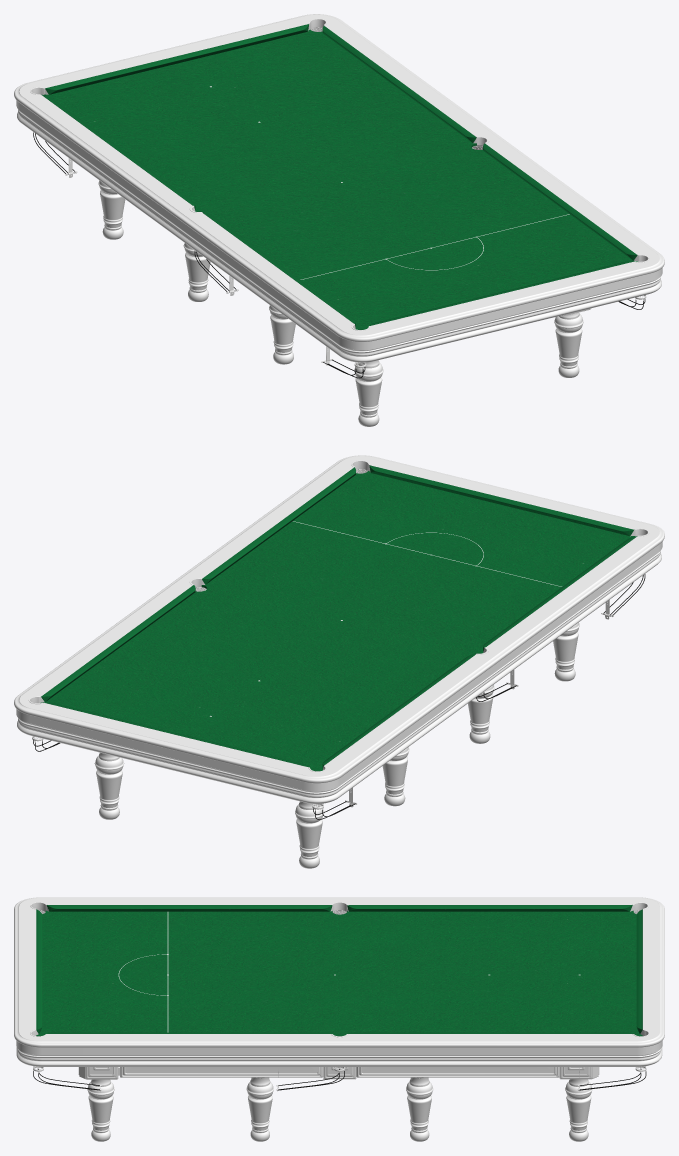
The model's file is snooker_generic.glb.
3 renders of one model, top to bottom at view 1: azimuth 30°, elevation 25°; view 2: azimuth 150°, elevation 25°; view 3: azimuth 270°, elevation 25°, orthographic. The views are drawn at different scales.
Parts seen in each view (by area): view 1: TABLE SURFACE, TABLE FRAME, Side Cushion.002, Side Cushion.001, End Cushion.001, NEW LEG-001.008, NEW LEG-001.009, NEW LEG-001, NEW LEG-001.006, NEW LEG-001.002, End Cushion.002; view 2: TABLE SURFACE, TABLE FRAME, Side Cushion.002, Side Cushion.001, End Cushion.002, NEW LEG-001.001, NEW LEG-001, NEW LEG-001.002, NEW LEG-001.008, NEW LEG-001.006, End Cushion.001; view 3: TABLE SURFACE, TABLE FRAME, Side Cushion.001, Side Cushion.002, Side Support-001, Side Support-002, NEW LEG-001.003, NEW LEG-001.007, NEW LEG-001.001, NEW LEG-001.009, End Cushion.002, End Cushion.001 (+3 smaller).
Boxes of the visible parts, <box> form: TABLE SURFACE: <box>44,29,637,329</box>; TABLE FRAME: <box>14,14,664,362</box>; Side Cushion.002: <box>41,26,476,210</box>; Side Cushion.001: <box>202,143,637,327</box>; End Cushion.001: <box>45,24,308,94</box>; NEW LEG-001.008: <box>354,360,383,426</box>; NEW LEG-001.009: <box>554,312,583,377</box>; NEW LEG-001: <box>98,180,125,239</box>; NEW LEG-001.006: <box>269,305,295,364</box>; NEW LEG-001.002: <box>183,243,210,301</box>; End Cushion.002: <box>369,261,633,325</box>; TABLE SURFACE: <box>40,471,634,771</box>; TABLE FRAME: <box>14,455,664,803</box>; Side Cushion.002: <box>41,585,475,769</box>; Side Cushion.001: <box>202,467,637,651</box>; End Cushion.002: <box>369,465,633,535</box>; NEW LEG-001.001: <box>94,752,124,819</box>; NEW LEG-001: <box>295,801,324,868</box>; NEW LEG-001.002: <box>382,747,409,806</box>; NEW LEG-001.008: <box>553,622,579,681</box>; NEW LEG-001.006: <box>468,684,494,743</box>; End Cushion.001: <box>46,702,308,766</box>; TABLE SURFACE: <box>36,910,642,1036</box>; TABLE FRAME: <box>14,897,664,1066</box>; Side Cushion.001: <box>46,905,332,1033</box>; Side Cushion.002: <box>347,905,632,1033</box>; Side Support-001: <box>120,1067,323,1077</box>; Side Support-002: <box>356,1067,559,1077</box>; NEW LEG-001.003: <box>406,1077,433,1141</box>; NEW LEG-001.007: <box>246,1077,273,1141</box>; NEW LEG-001.001: <box>565,1079,592,1141</box>; NEW LEG-001.009: <box>87,1079,114,1141</box>; End Cushion.002: <box>36,909,42,1033</box>; End Cushion.001: <box>636,909,642,1033</box>.
Size of the model in its own units: 2.08 by 0.8106 by 3.88.
10 materials, 1 textured.
